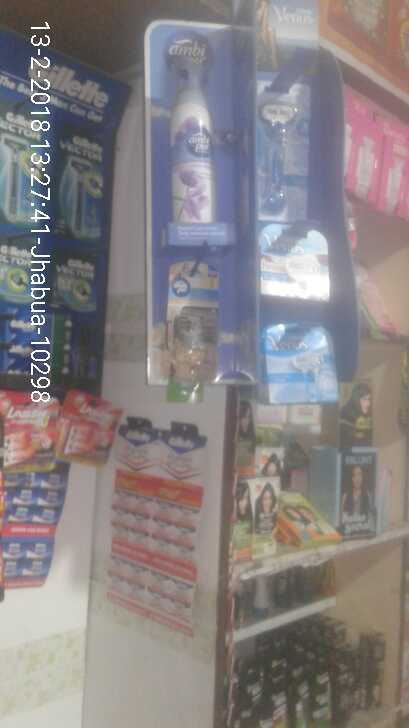beauty: (1, 301, 85, 394), (256, 78, 308, 221), (262, 323, 343, 409), (50, 143, 108, 244), (258, 228, 332, 303)
home: (165, 261, 230, 394), (164, 65, 216, 226)
